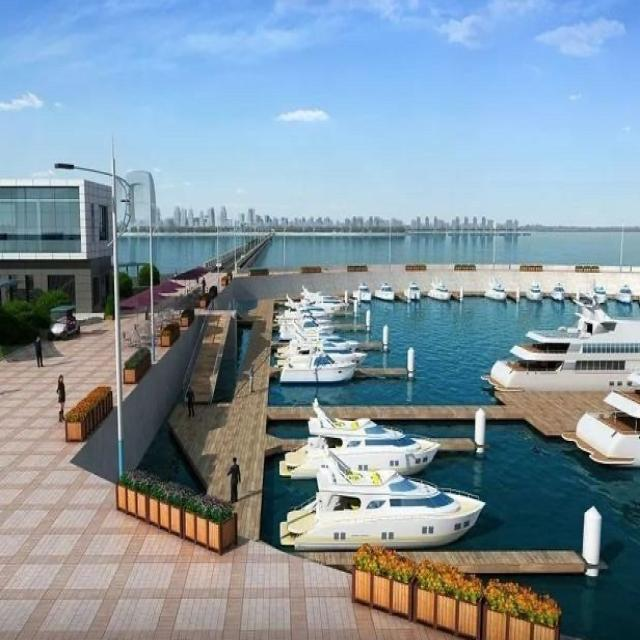houseboat: (285, 466, 483, 538), (278, 411, 430, 473), (271, 344, 385, 376)
